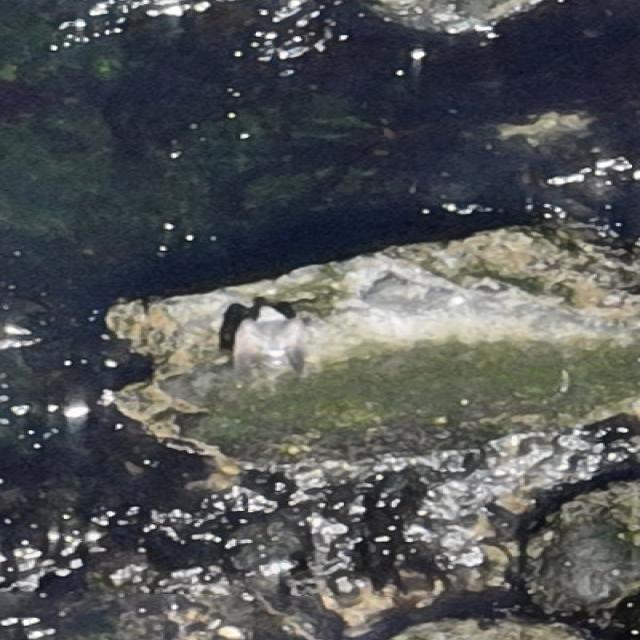umineko: (247, 305, 311, 375)
